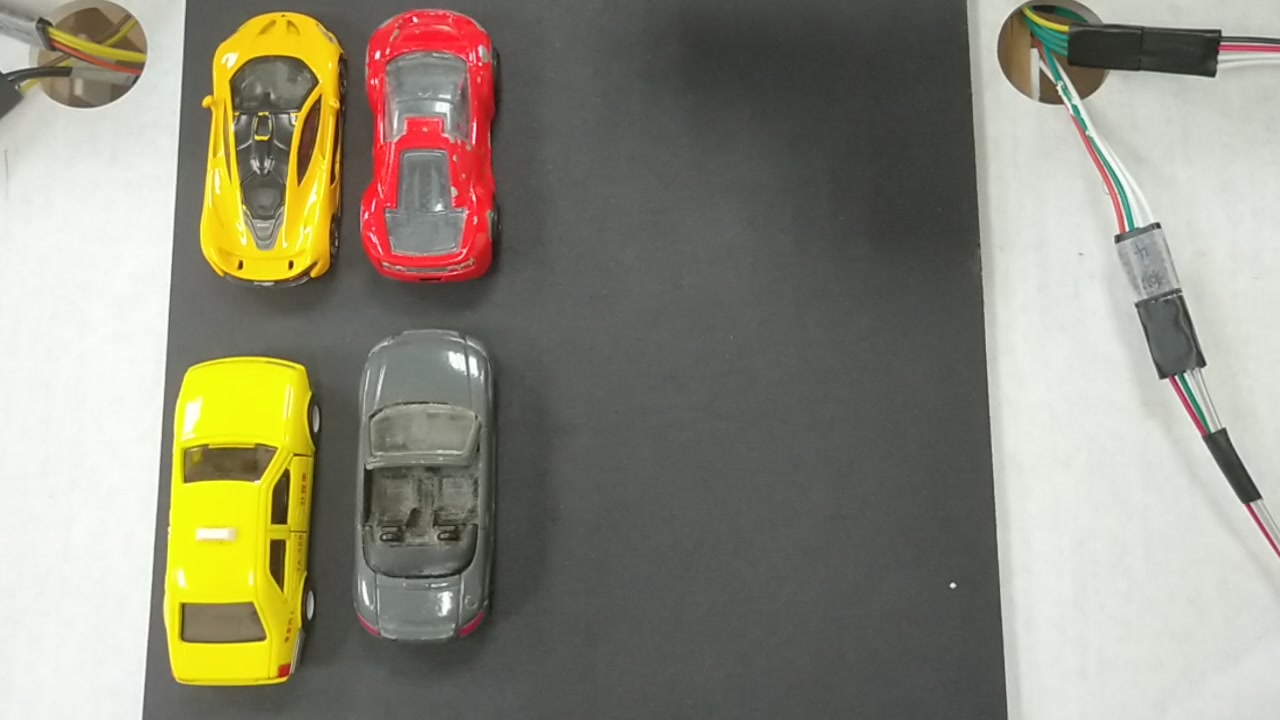car: (167, 348, 314, 690), (357, 336, 498, 643), (203, 17, 337, 282), (364, 13, 490, 266)
